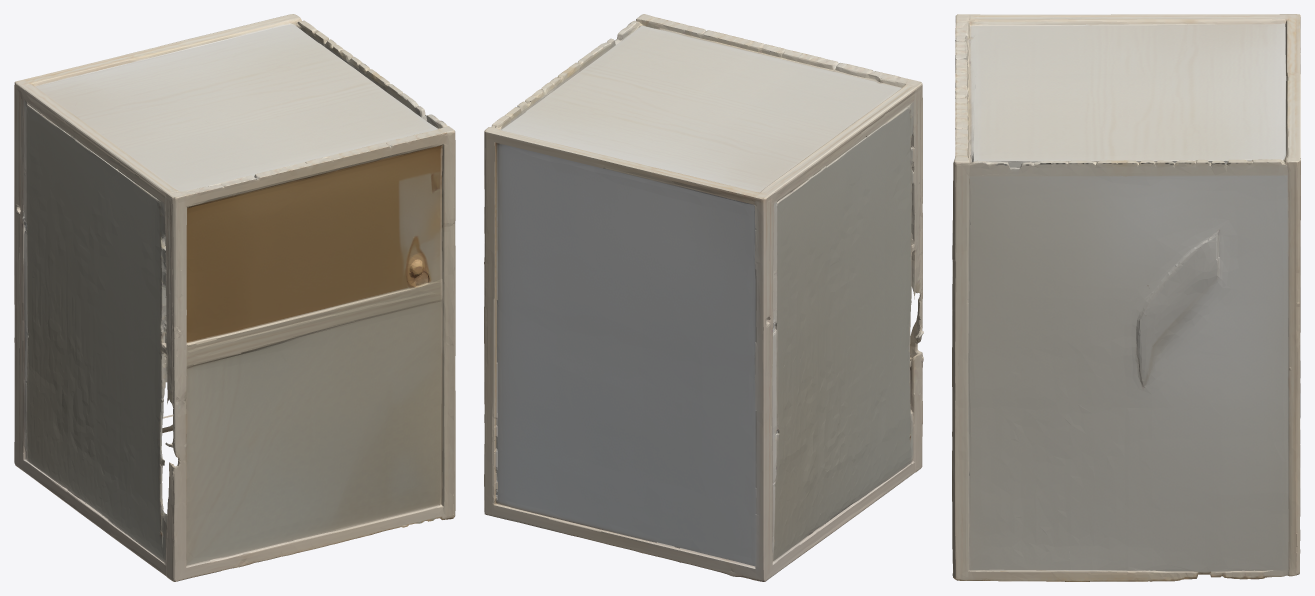
3 renders of one model, left to right at view 1: azimuth 30°, elevation 25°; view 2: azimuth 150°, elevation 25°; view 3: azimuth 270°, elevation 25°, orthographic. The views are drawn at different scales.
Parts seen in each view (by area): view 1: world; view 2: world; view 3: world.
Boxes of the visible parts, x1,y1,x2,y2 form: world: [14, 14, 455, 581]; world: [484, 14, 923, 581]; world: [952, 14, 1300, 581].
Size of the model in its own units: 0.7706 by 1 by 0.7534.
1 material, 1 textured.
